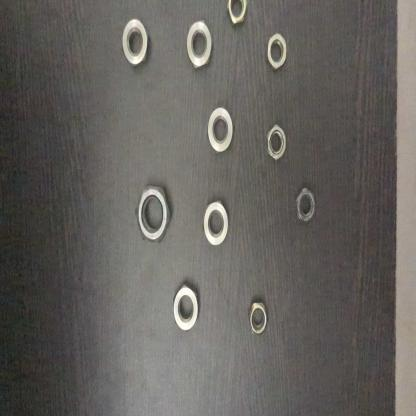NUTS: (131, 178, 170, 246), (170, 275, 207, 337), (197, 195, 236, 252), (119, 9, 153, 74), (204, 101, 235, 166), (185, 15, 215, 75), (292, 181, 318, 233), (246, 292, 274, 339), (265, 29, 291, 76), (264, 118, 288, 164), (228, 0, 249, 36)
